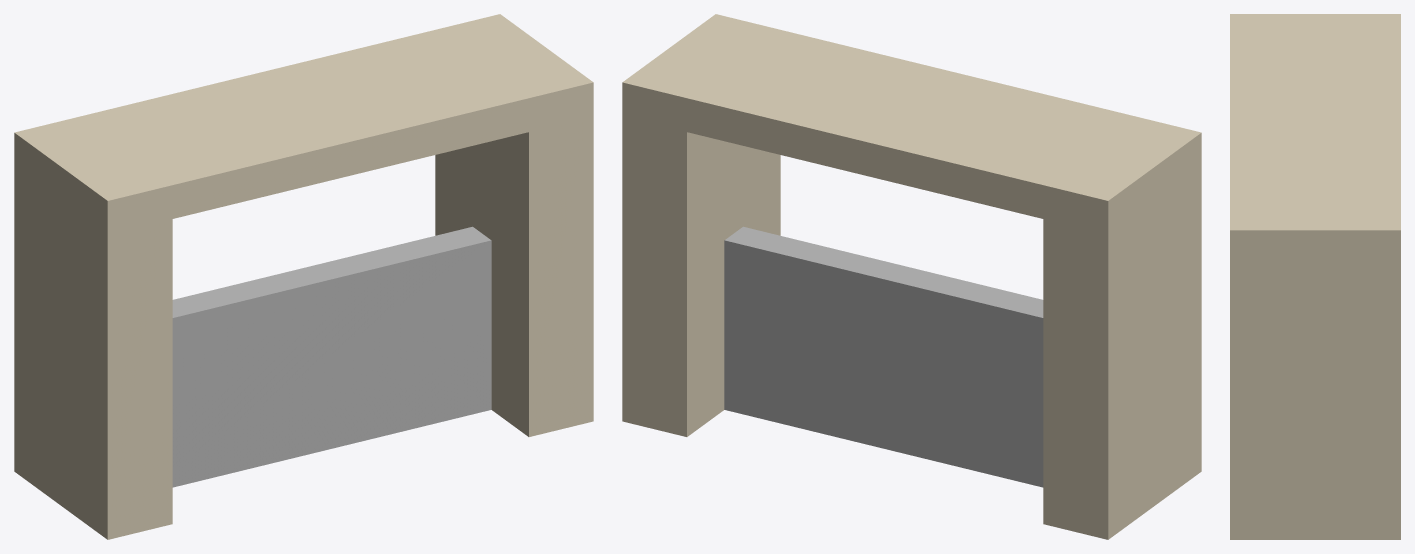
The model's file is zhamen1.glb.
The picture shows the model from 3 angles, left to right: view 1: azimuth 30°, elevation 25°; view 2: azimuth 150°, elevation 25°; view 3: azimuth 270°, elevation 25°; orthographic projection. The views are drawn at different scales.
Parts seen in each view (by area): view 1: Box004, Box001, Box003, Box002; view 2: Box004, Box001, Box003, Box002; view 3: Box002, Box003, Box001.
Boxes of the visible parts, x1=… form: Box004: x1=172, y1=226, x2=491, y2=487; Box001: x1=14, y1=117, x2=172, y2=539; Box003: x1=14, y1=30, x2=590, y2=234; Box002: x1=435, y1=14, x2=593, y2=436; Box004: x1=724, y1=226, x2=1043, y2=487; Box001: x1=1043, y1=117, x2=1201, y2=539; Box003: x1=622, y1=30, x2=1201, y2=234; Box002: x1=622, y1=14, x2=780, y2=436; Box002: x1=1230, y1=201, x2=1400, y2=539; Box003: x1=1230, y1=14, x2=1400, y2=260; Box001: x1=1230, y1=14, x2=1400, y2=42.
Size of the model in its own units: 1.5 by 1 by 0.5.
